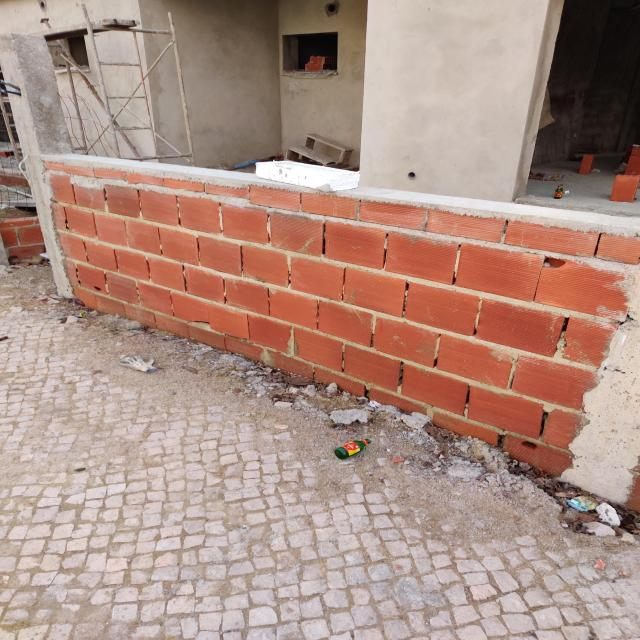litter: (118, 353, 615, 521)
